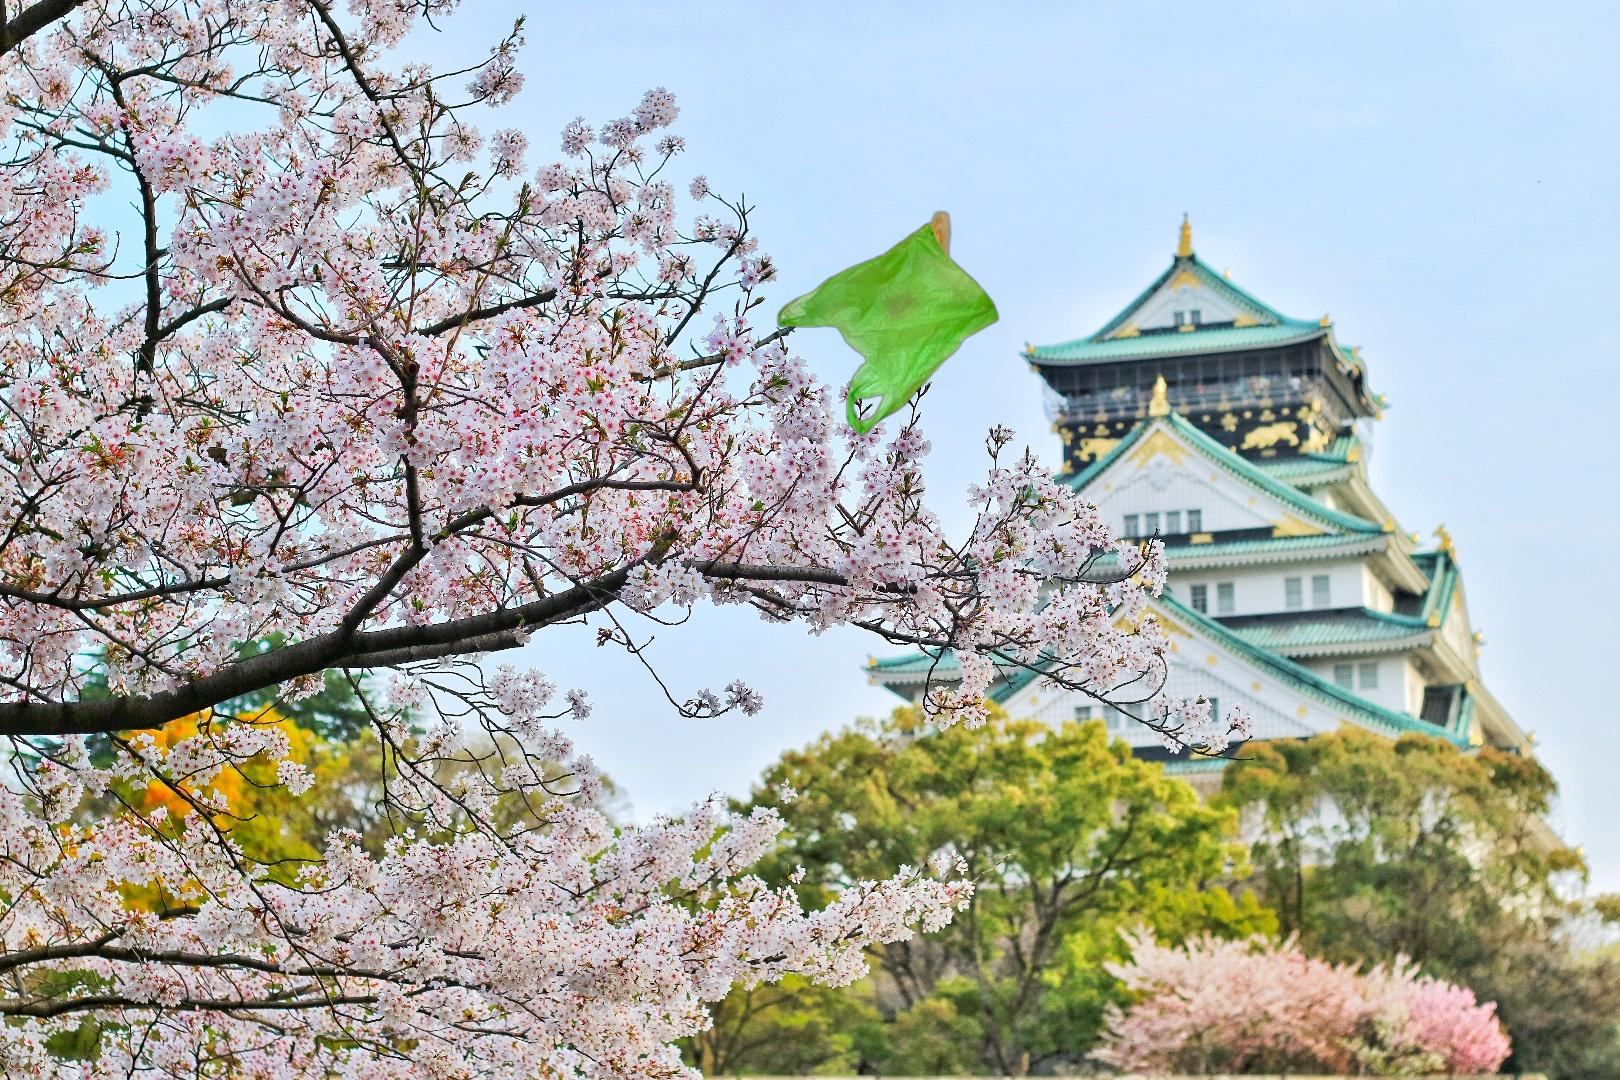plastic-bag: (774, 209, 1002, 438)
